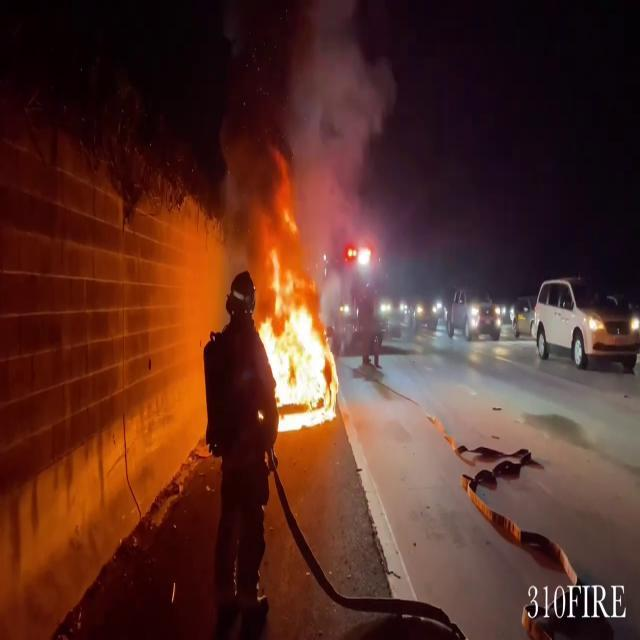Fire: (256, 284, 338, 431)
Smoke: (200, 1, 396, 285)
